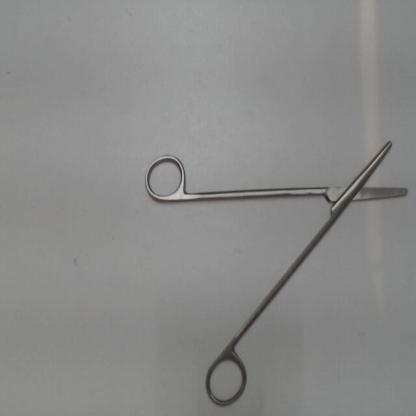9 Metzenbaum Scissors: (142, 132, 410, 412)
